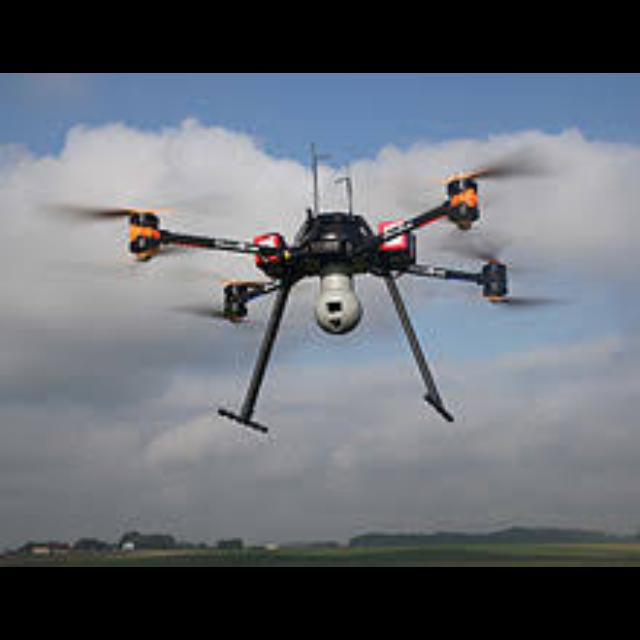Drone: (48, 150, 570, 442)
